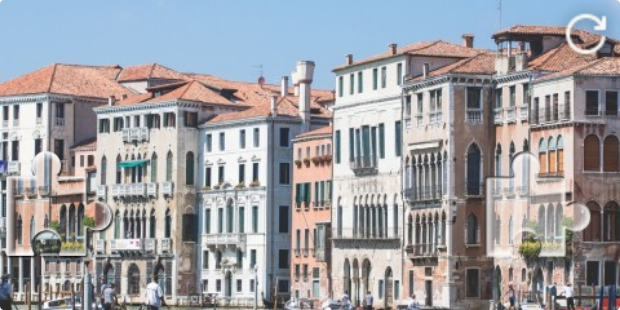target: (485, 152, 591, 257)
